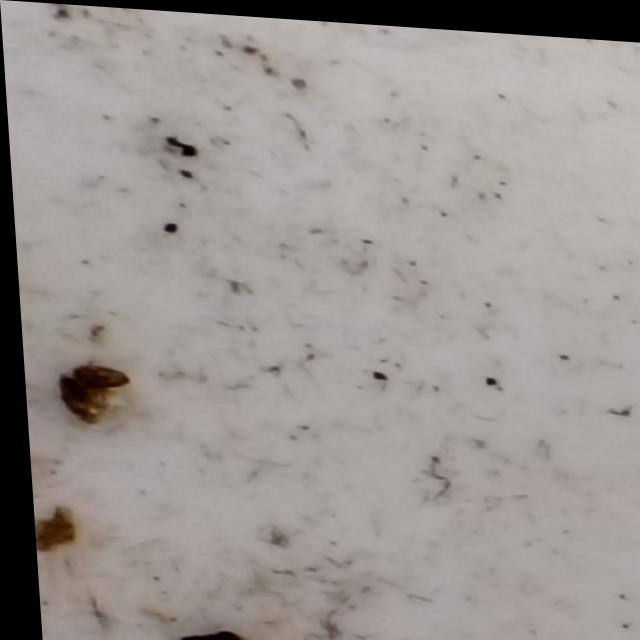varroa: (67, 363, 126, 396)
